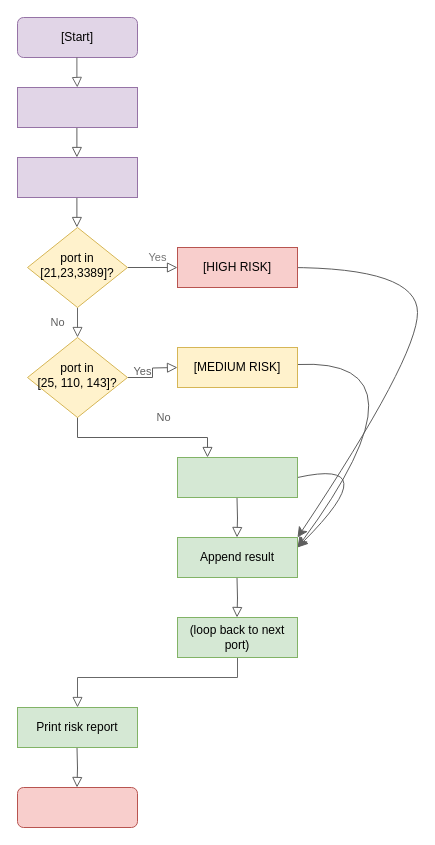
This 435x845 diagram has some shape labels left out. Each missing label, with the centre of its shape:
"[else: LOW RISK]" goes at point (237, 477).
"[End]" goes at point (77, 807).
"for each open port" goes at point (77, 177).
"get_open_ports()" goes at point (77, 107).
